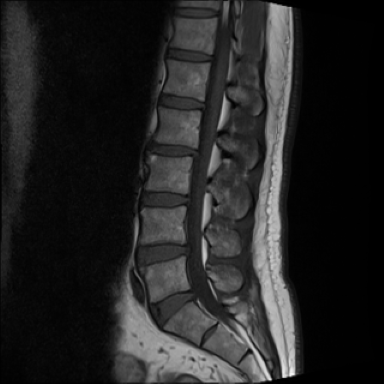Degenerative Disc Disease (DDD): (144, 138, 199, 162)
Lumbar Disc Bulge (LDB): (145, 284, 198, 336), (130, 238, 193, 271), (134, 187, 195, 211), (144, 138, 204, 161)
Normal IVD: (158, 90, 209, 113), (163, 45, 216, 66), (172, 4, 222, 20)
Spinal Stenosis (SS): (187, 281, 208, 307), (189, 135, 209, 160), (180, 233, 195, 265), (182, 186, 199, 212)
